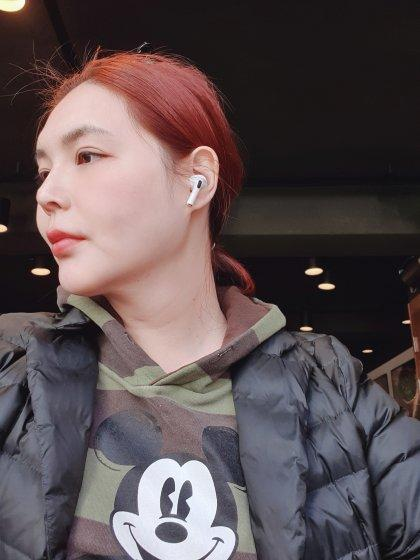earphone: (181, 170, 212, 209)
